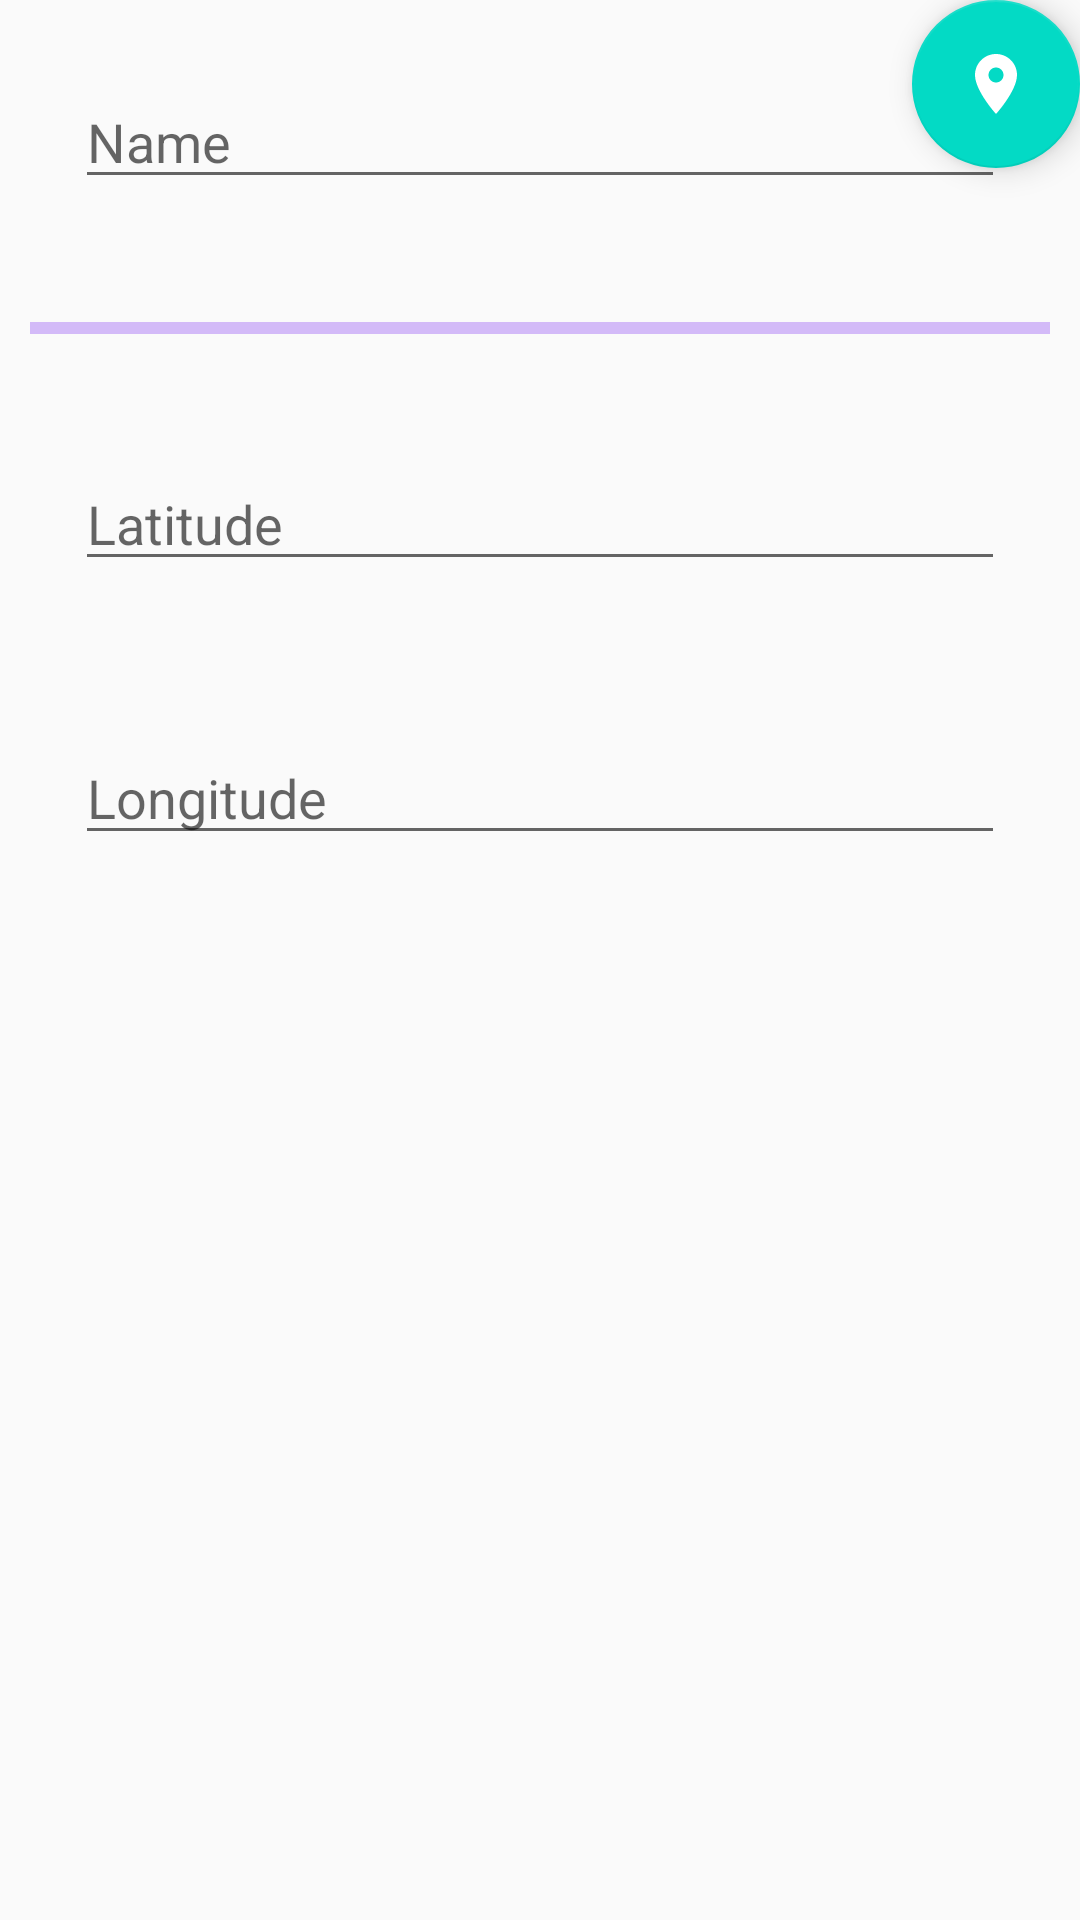

Icon bounding boxes for this 1080*1920 phone screenshot, format (x1, y1, x2, y2):
place: (912, 0, 1080, 168)
